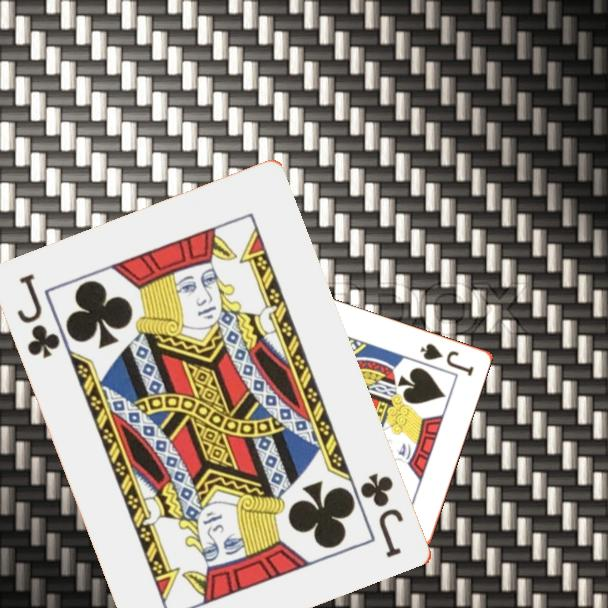c11: (357, 470, 407, 562), (14, 270, 64, 362)
s11: (417, 339, 477, 379)
